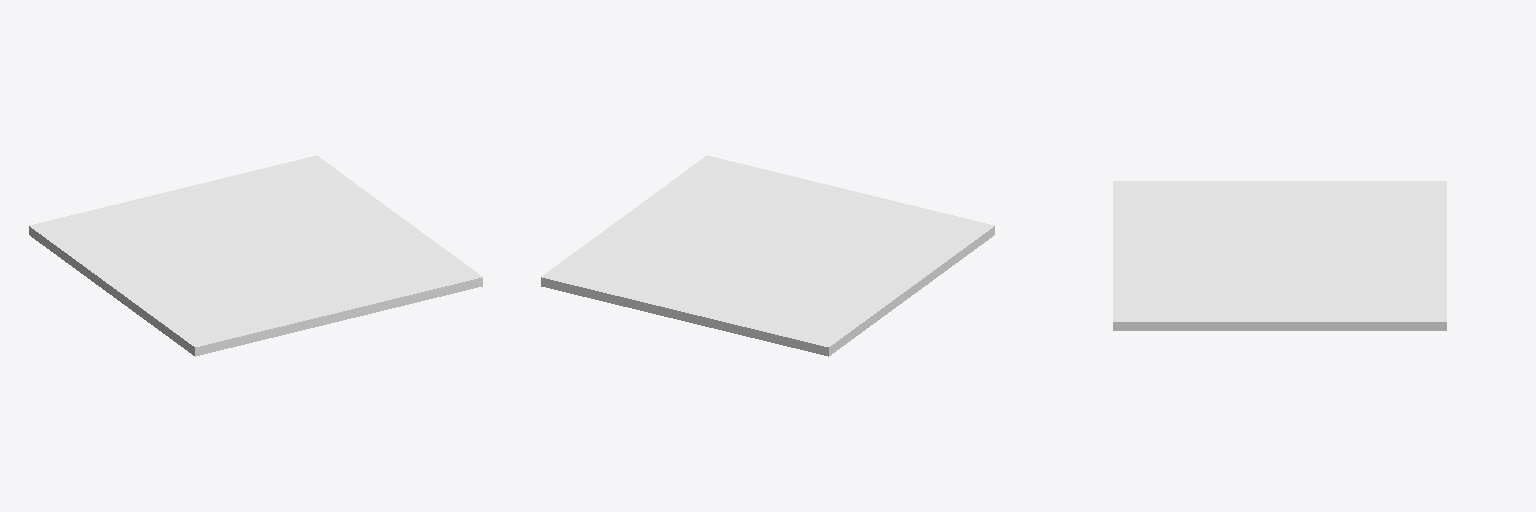
File: carpet_quarter.obj
3 views of the same model, side by side, from view 1: azimuth 30°, elevation 25°; view 2: azimuth 150°, elevation 25°; view 3: azimuth 270°, elevation 25° (orthographic).
Parts seen in each view (by area): view 1: object 1; view 2: object 1; view 3: object 1.
Part boxes in pixels (left/top/right/bottom): object 1: left=29, top=155, right=482, bottom=356; object 1: left=541, top=155, right=994, bottom=356; object 1: left=1113, top=181, right=1446, bottom=330.
Bounding box in the file's own units: 10 × 0.3 × 10.